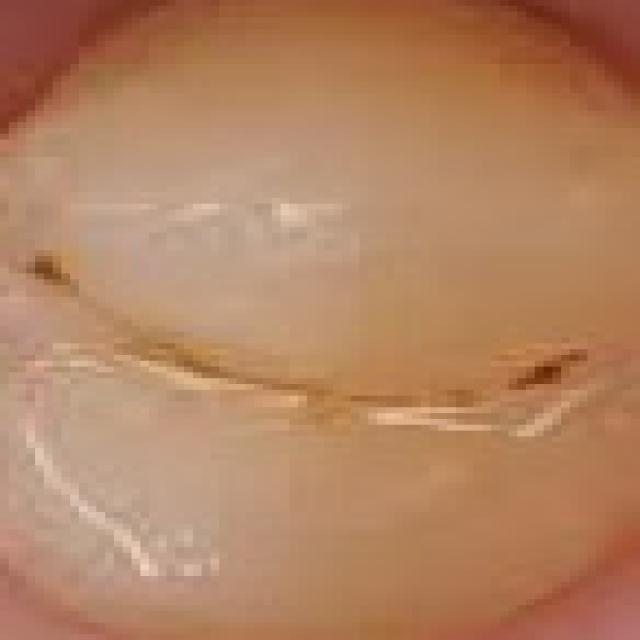Carrier: (134, 343, 614, 412), (34, 237, 87, 316)
